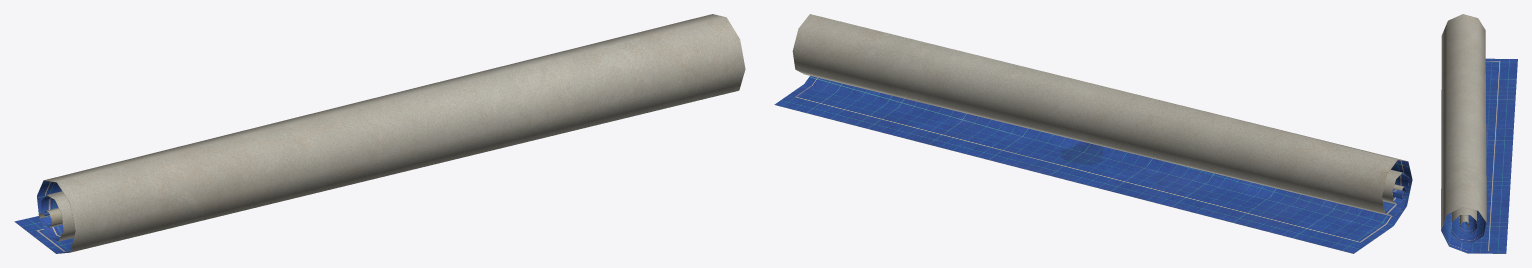
The model's file is Blueprints07.FBX.
3 renders of one model, left to right at view 1: azimuth 30°, elevation 25°; view 2: azimuth 150°, elevation 25°; view 3: azimuth 270°, elevation 25°, orthographic. The views are drawn at different scales.
Visible parts, largest first — view 1: Blueprint07; view 2: Blueprint07; view 3: Blueprint07.
Boxes of the visible parts, x1,y1,x2,y2 form: Blueprint07: (14, 14, 745, 253); Blueprint07: (774, 14, 1412, 253); Blueprint07: (1441, 14, 1517, 253).
Bounding box in the file's own units: 98.98 × 10.67 × 16.2.
